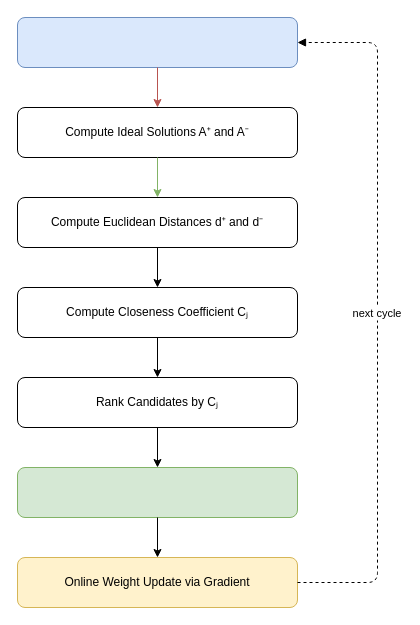
This 420x625 diagram has some shape labels left out. The centre of each missing label's shape, as x and y in pixels:
"AHP Weight Initialization" belongs at pixel 157 42.
"Select Primary and Backup Forwarder" belongs at pixel 157 492.
